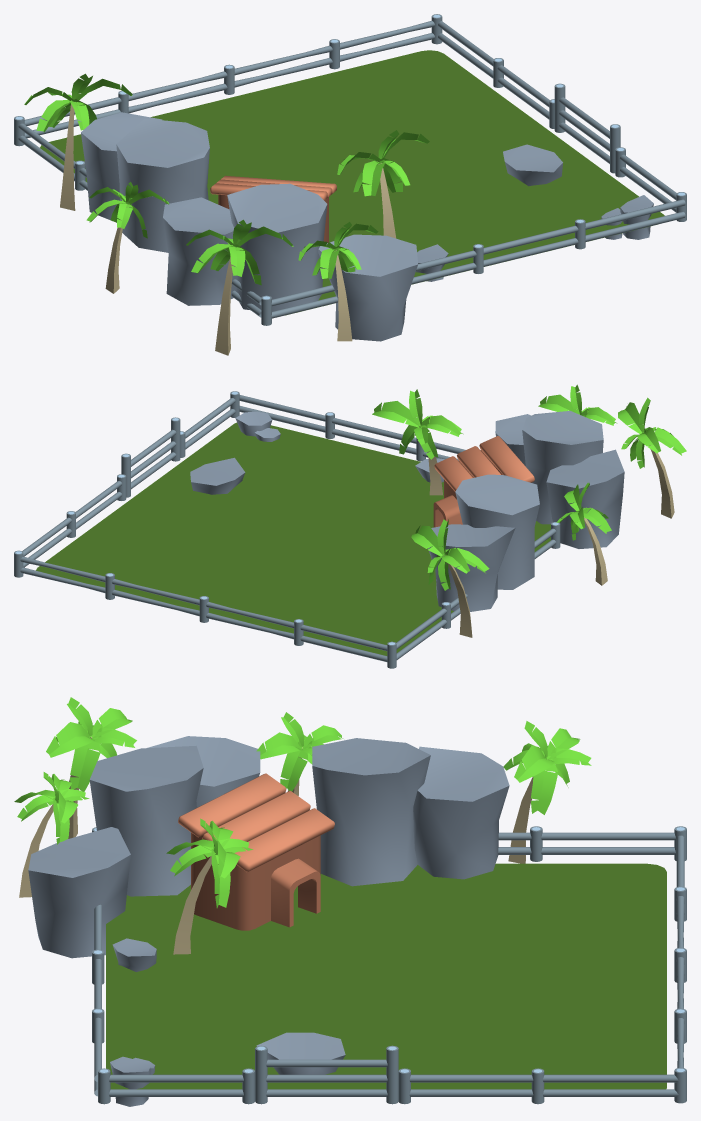
File: paddock_hyena.fbx
3 views of the same model, one above another, from view 1: azimuth 30°, elevation 25°; view 2: azimuth 150°, elevation 25°; view 3: azimuth 270°, elevation 25° (orthographic). The views are drawn at different scales.
Parts seen in each view (by area): view 1: Plane.006, paddock_hyena, stones_big.001, stones_big, stone_big, palm.003, palm, palm.001, palm.004, door_paddock_hyena, palm.002, stone.003 (+3 smaller); view 2: Plane.006, paddock_hyena, stones_big, stones_big.001, house_hyena, palm.001, palm, palm.003, door_paddock_hyena, palm.002, stone.003, palm.004 (+2 smaller); view 3: Plane.006, stones_big, paddock_hyena, stones_big.001, house_hyena, stone_big, door_paddock_hyena, palm, palm.003, palm.001, palm.004, palm.002 (+3 smaller).
Boxes of the visible parts, x1,y1,x2,y2 form: Plane.006: (40, 50, 664, 315); paddock_hyena: (14, 14, 686, 325); stones_big.001: (163, 183, 327, 311); stones_big: (81, 112, 209, 252); stone_big: (318, 234, 418, 341); palm.003: (186, 219, 293, 355); palm: (24, 73, 132, 210); palm.001: (337, 130, 429, 238); palm.004: (298, 222, 378, 341); door_paddock_hyena: (554, 83, 620, 173); palm.002: (86, 182, 168, 293); stone.003: (503, 144, 562, 186); Plane.006: (36, 422, 550, 655); paddock_hyena: (14, 391, 560, 668); stones_big: (428, 474, 539, 611); stones_big.001: (522, 411, 624, 548); house_hyena: (433, 436, 534, 527); palm.001: (372, 389, 463, 495); palm: (411, 519, 489, 637); palm.003: (618, 397, 686, 518); door_paddock_hyena: (121, 417, 180, 497); palm.002: (556, 482, 611, 585); stone.003: (190, 457, 245, 494); palm.004: (538, 384, 617, 425); Plane.006: (106, 863, 666, 1089); stones_big: (312, 738, 509, 886); paddock_hyena: (92, 826, 686, 1104); stones_big.001: (89, 736, 260, 896); house_hyena: (178, 773, 334, 930); stone_big: (28, 827, 130, 958); door_paddock_hyena: (255, 1045, 398, 1104); palm: (503, 721, 591, 863); palm.003: (46, 697, 136, 838); palm.001: (166, 818, 253, 954); palm.004: (14, 772, 89, 897); palm.002: (256, 712, 343, 795).
Size of the model in its own units: 3209 by 851 by 3084.
